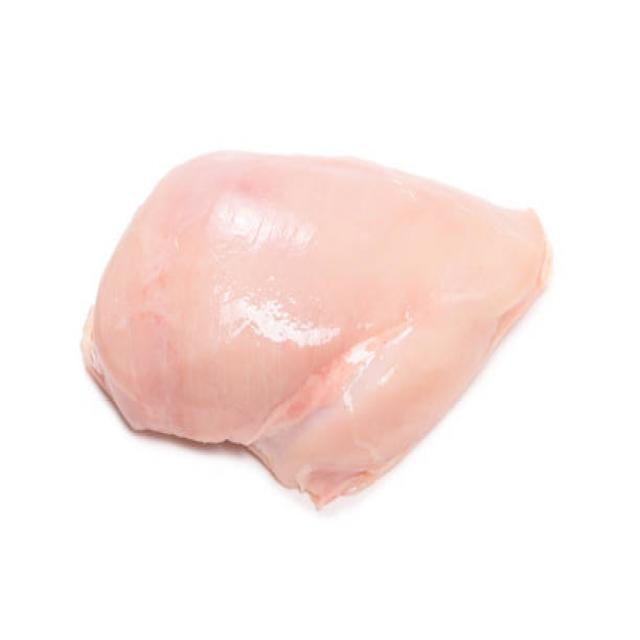Chicken Breast: (77, 104, 563, 542)
